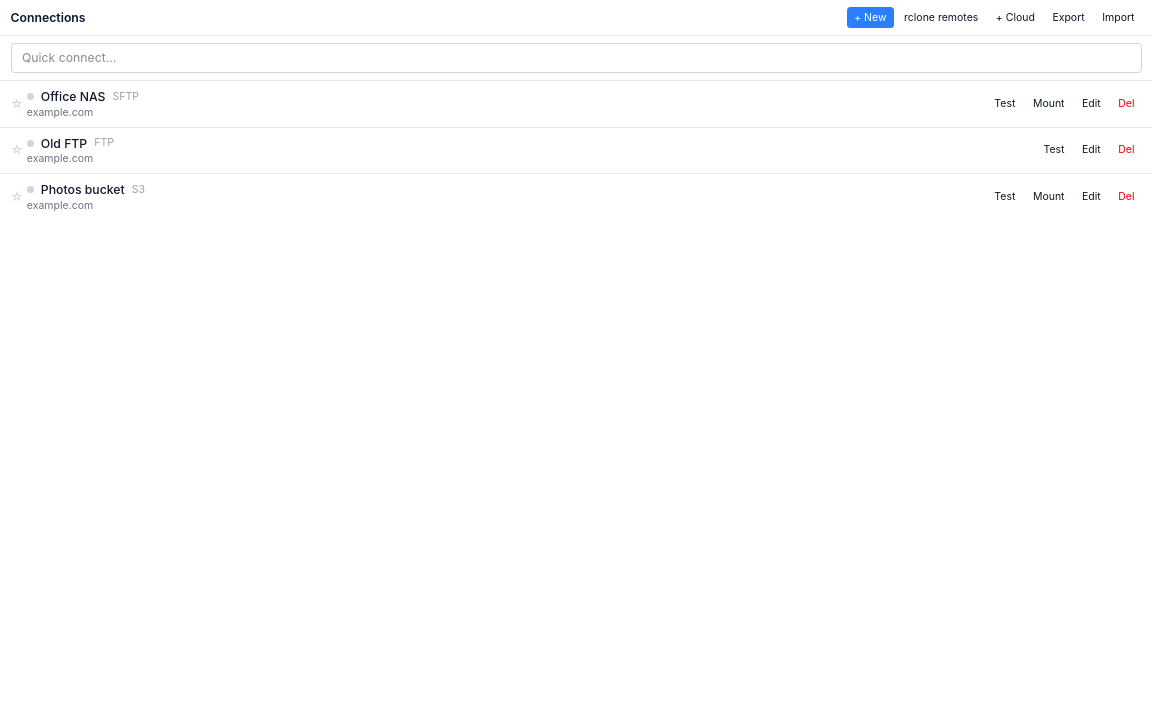
Mount as drive in the Connection Manager › opens the dialog with that connection selected, only for connections that can be mounted
Click the button with aria-label "Mount Photos bucket as drive" at (1049, 197), box [1026,186,1072,207]
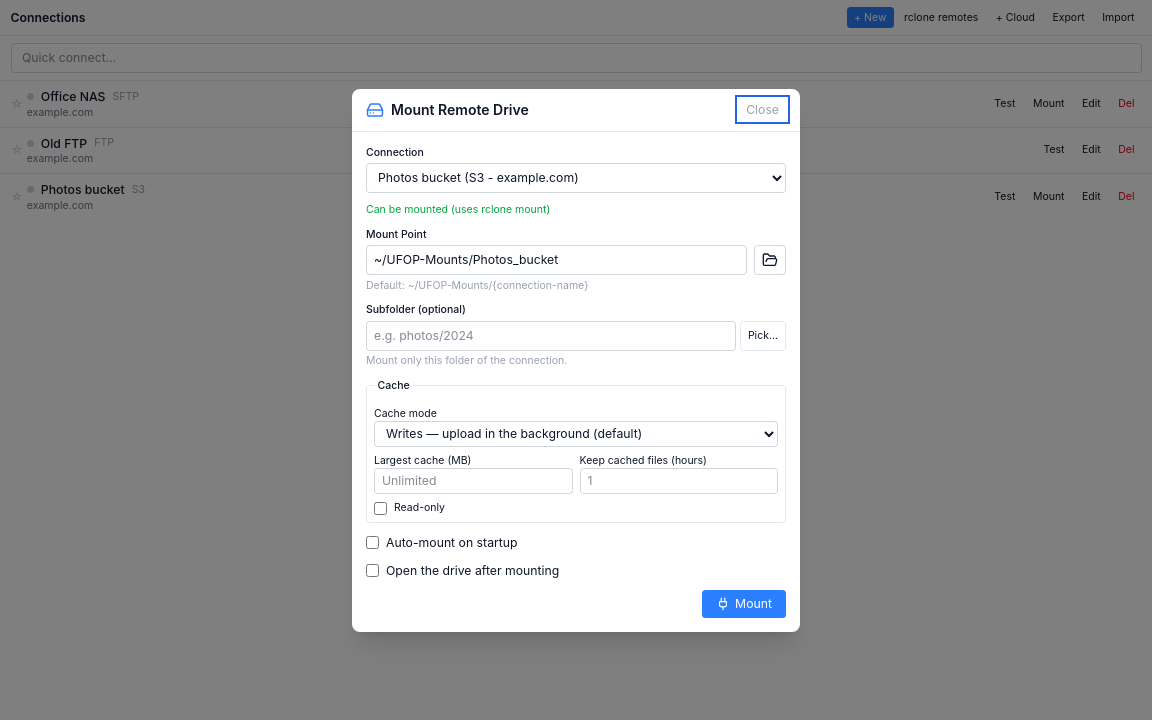
Expected: the button with aria-label "Mount Office NAS as drive" is shown, [1026,93,1072,114]
Expected: the dropdown labelled "Connection" shows "Photos bucket (S3 - example.com)", [366,163,786,192]
